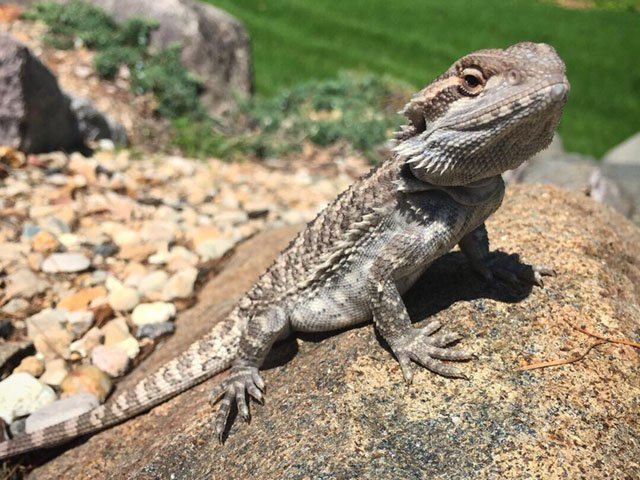bearded: (1, 40, 569, 460)
